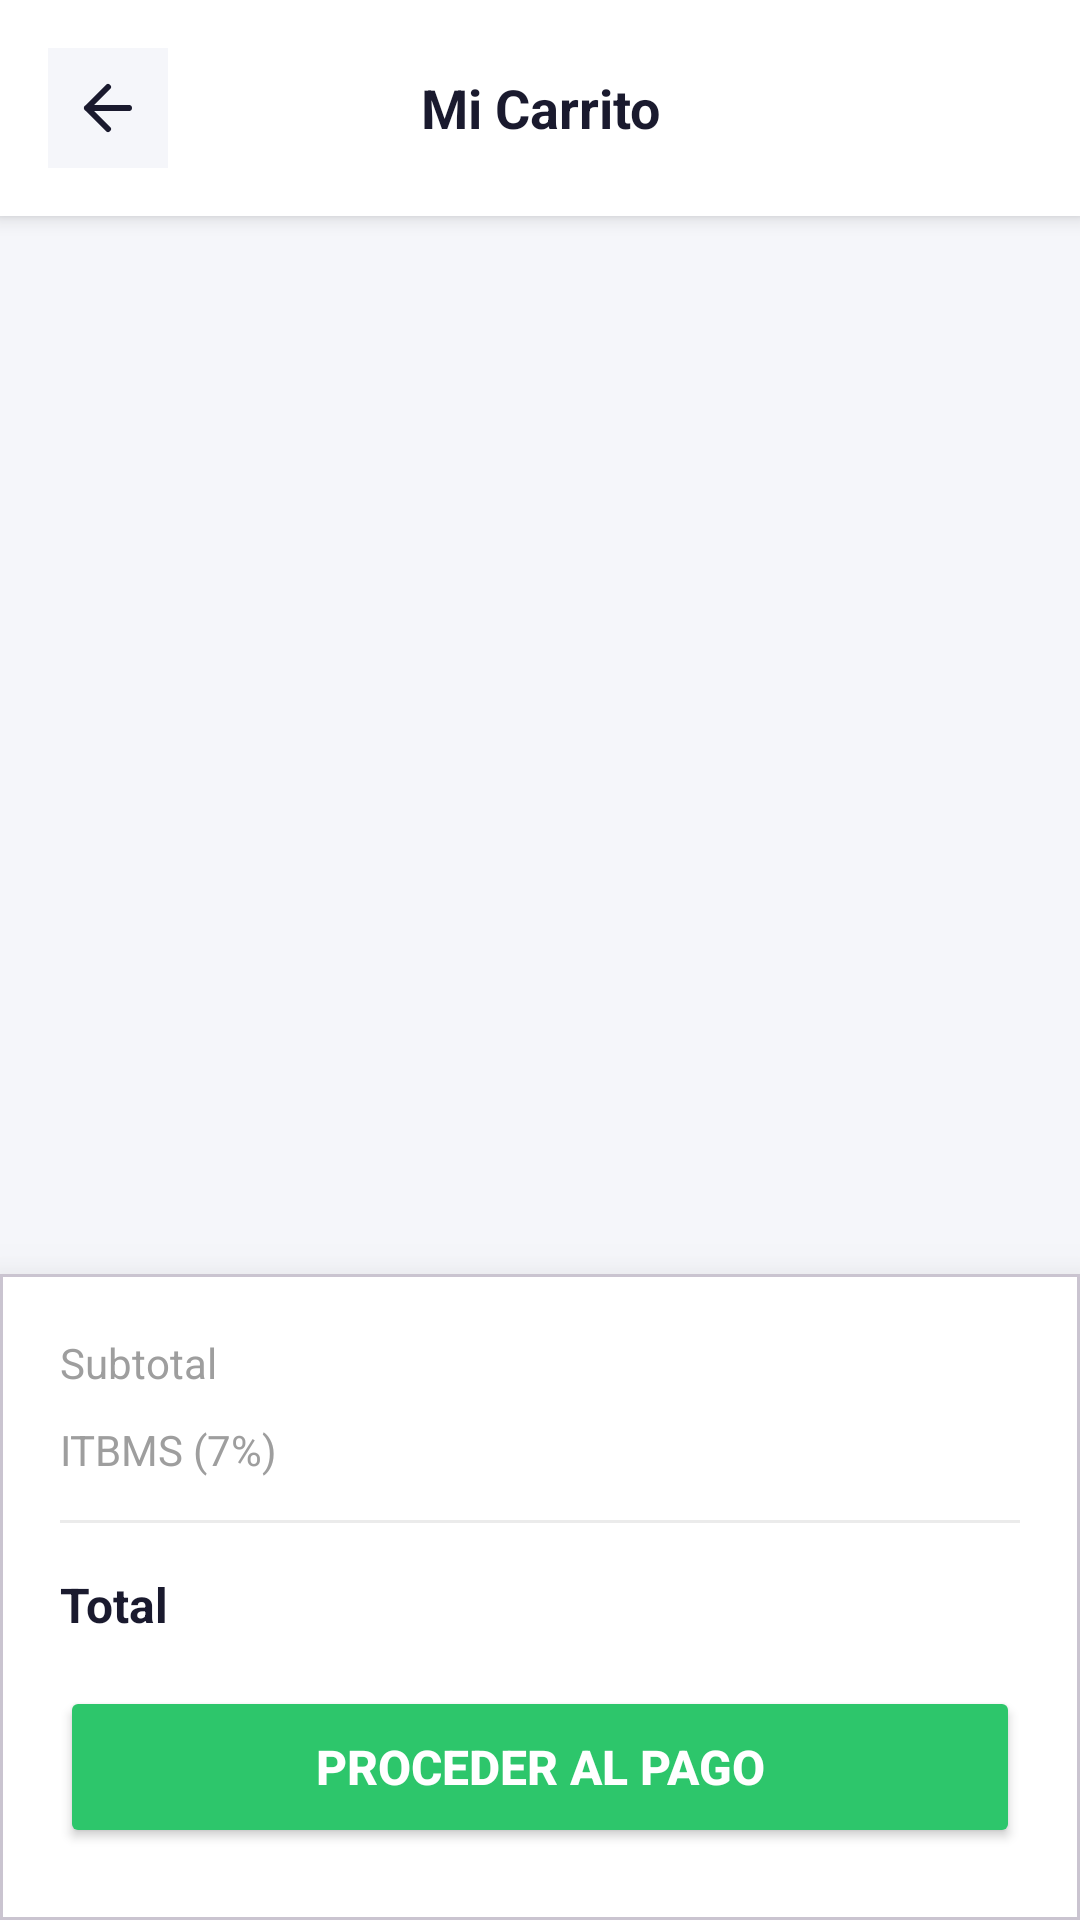

Icons on this 1080x1920 Android screen, each with its box as rect(x1, y1, x2, y2):
back: rect(48, 48, 168, 168)
